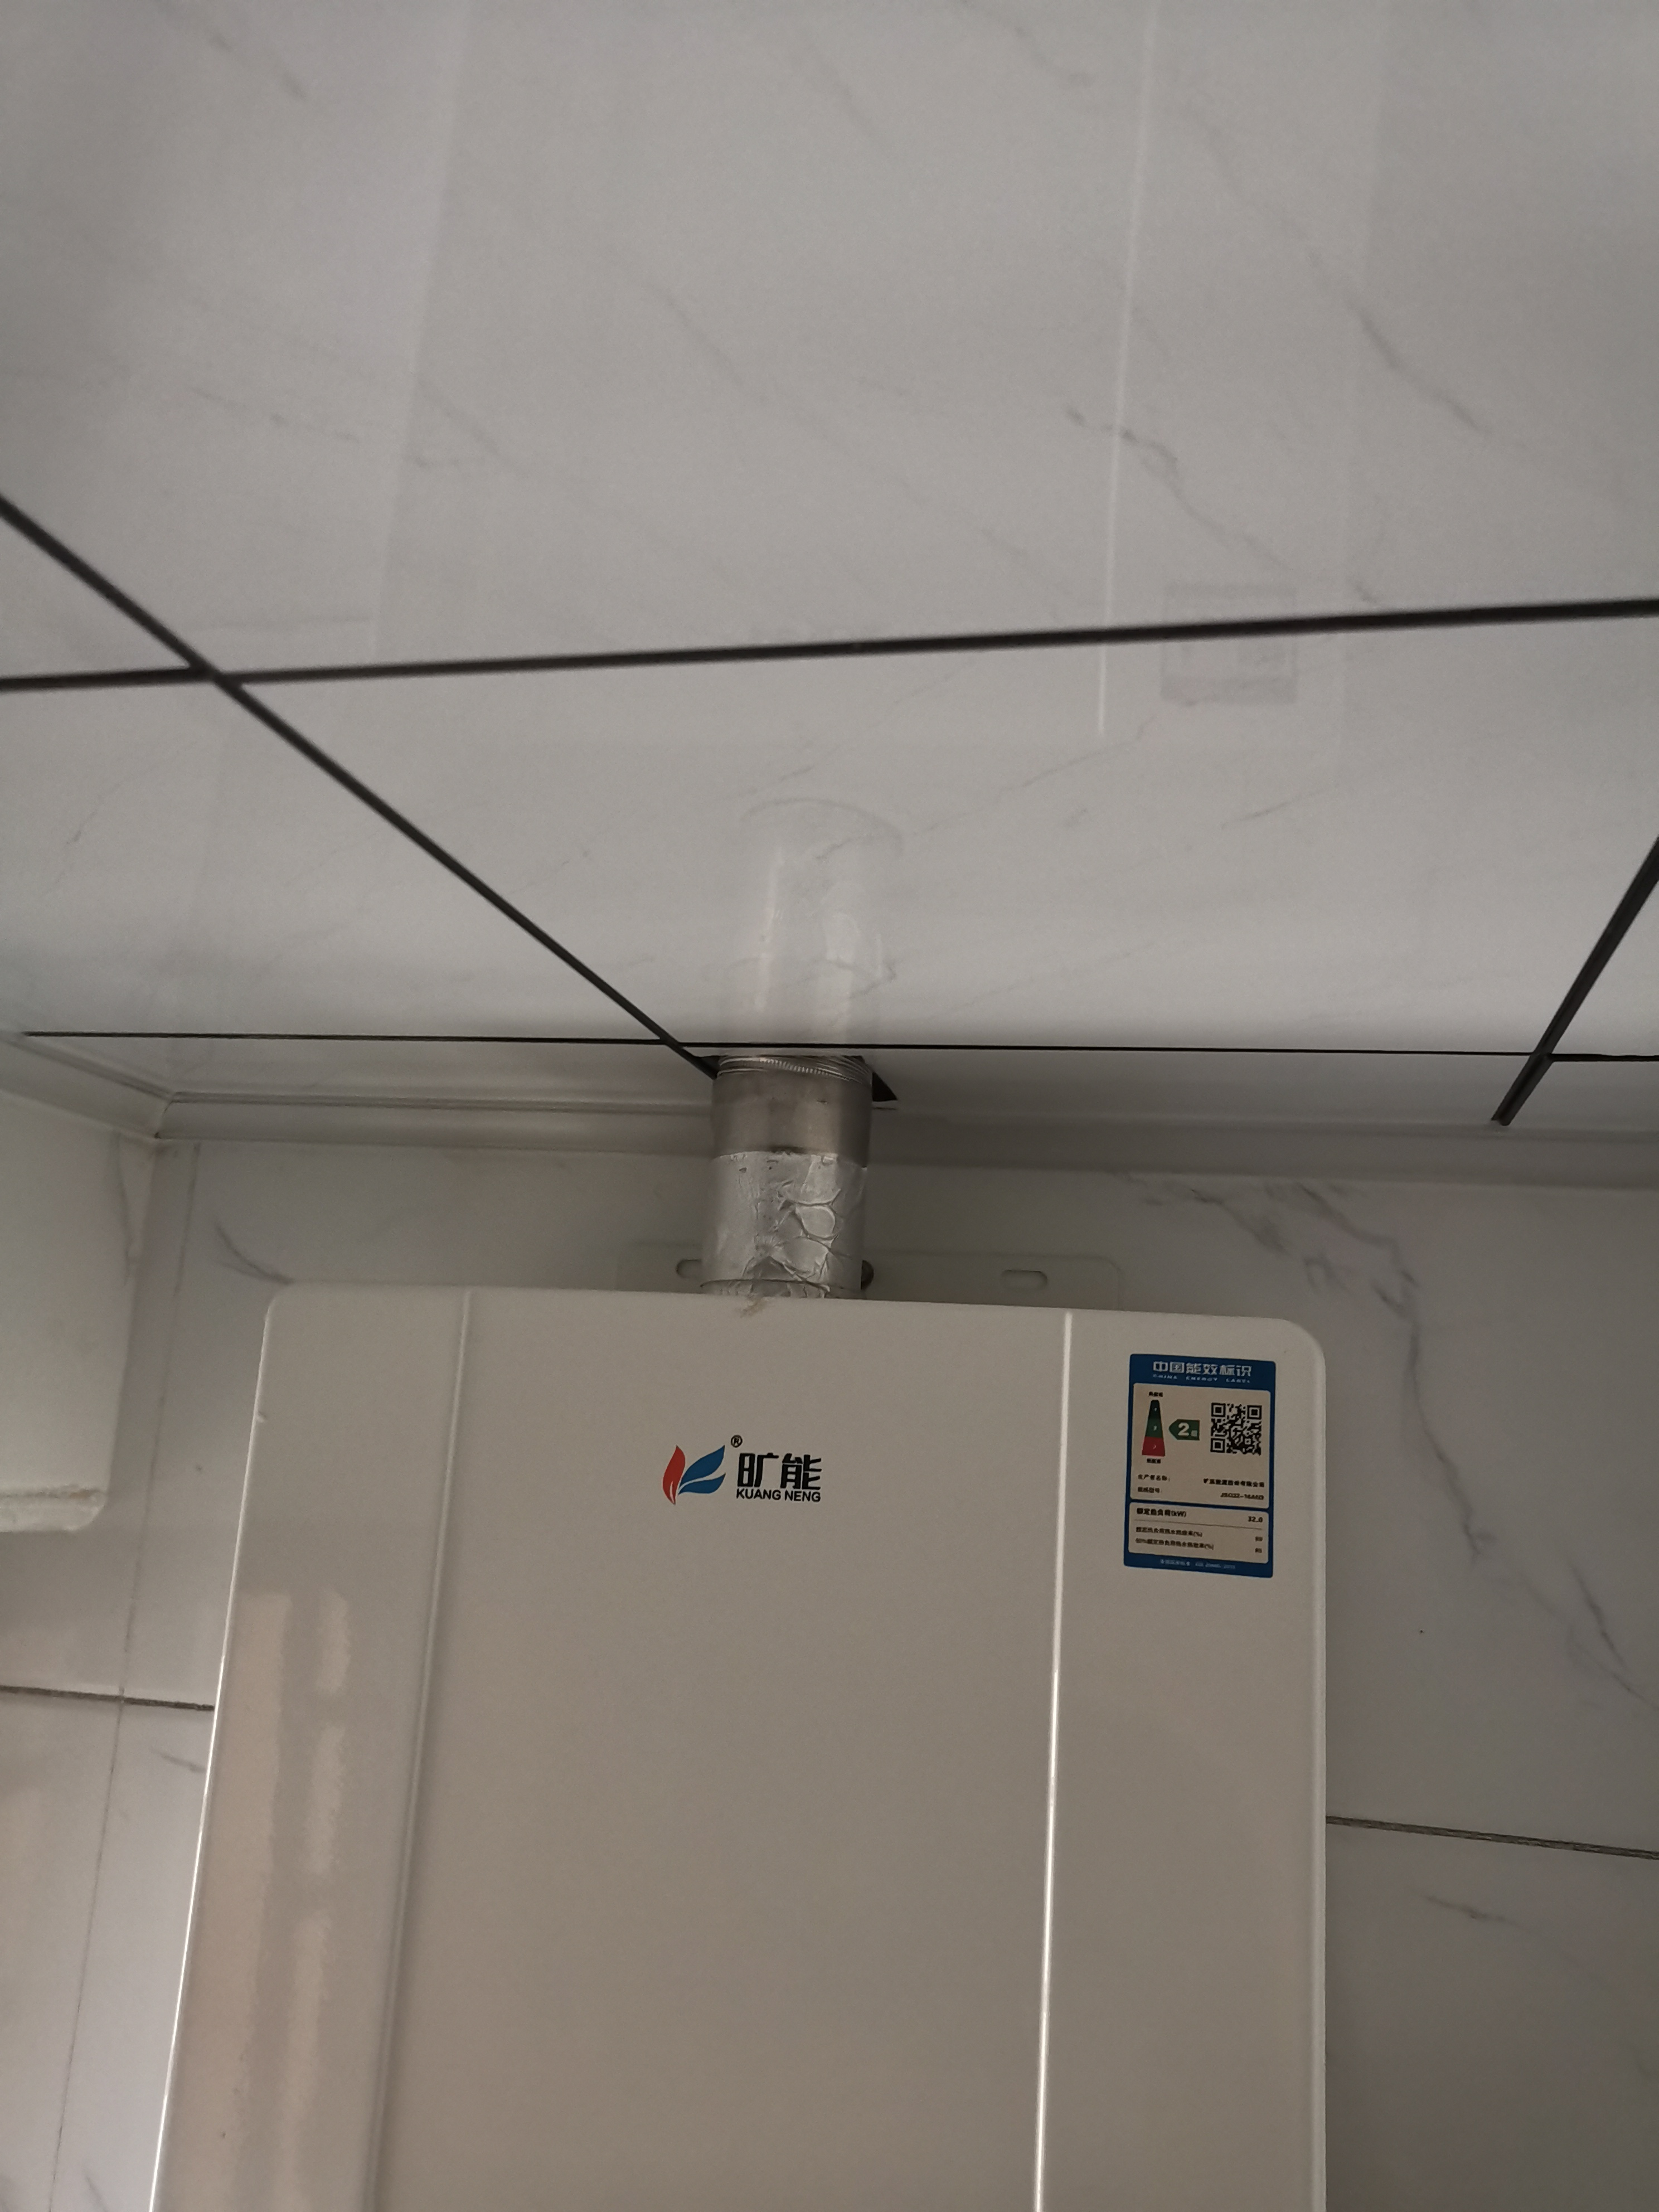loudou: (659, 1426, 843, 1517)
